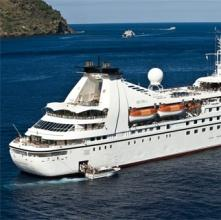otherboat: (81, 160, 123, 185)
youlun: (14, 47, 221, 176)
